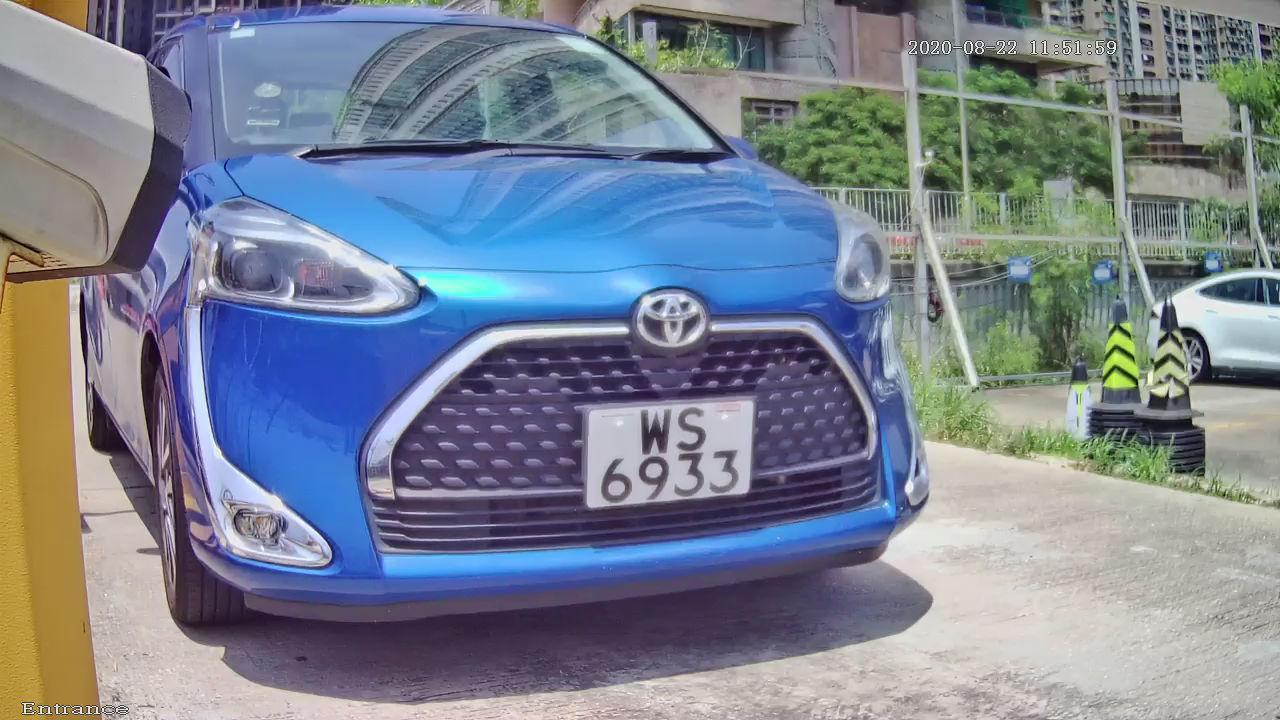Car: (23, 4, 995, 692)
License Plate: (566, 377, 766, 524)
